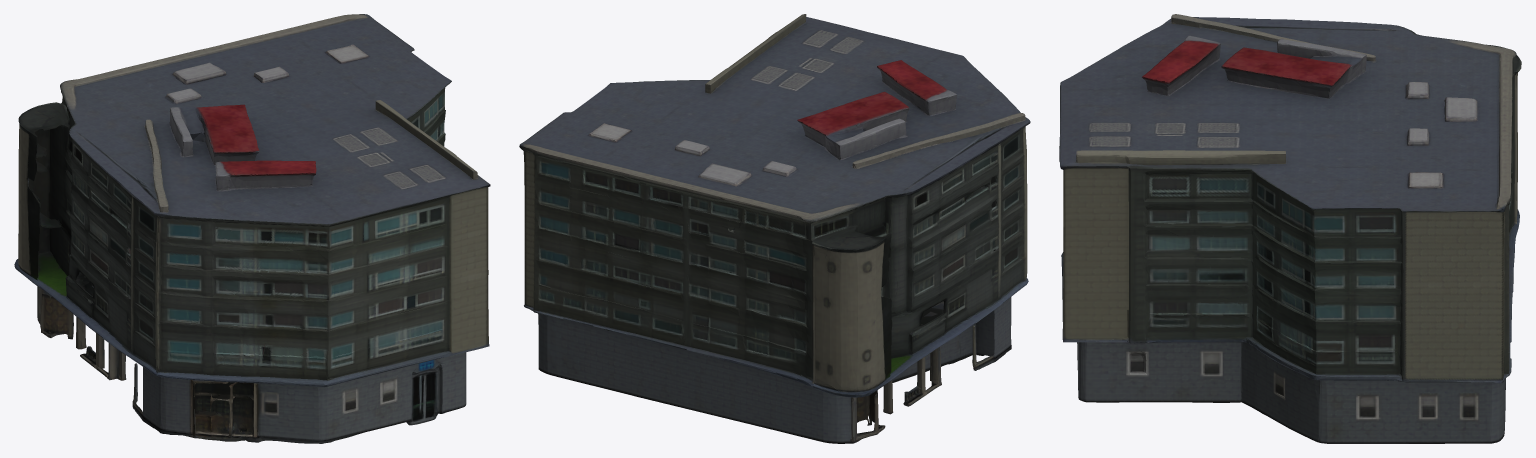
The model's file is house.glb.
3 views of the same model, side by side, from view 1: azimuth 30°, elevation 25°; view 2: azimuth 150°, elevation 25°; view 3: azimuth 270°, elevation 25° (orthographic). The views are drawn at different scales.
Visible parts, largest first — view 1: world; view 2: world; view 3: world.
Boxes of the visible parts, box(x1,y1,x2,y2) form: world: box(14, 14, 490, 443); world: box(519, 14, 1030, 443); world: box(1059, 14, 1521, 443).
Size of the model in its own units: 0.9766 by 0.6461 by 0.9913.
Materials: 1 (1 with a texture image).
